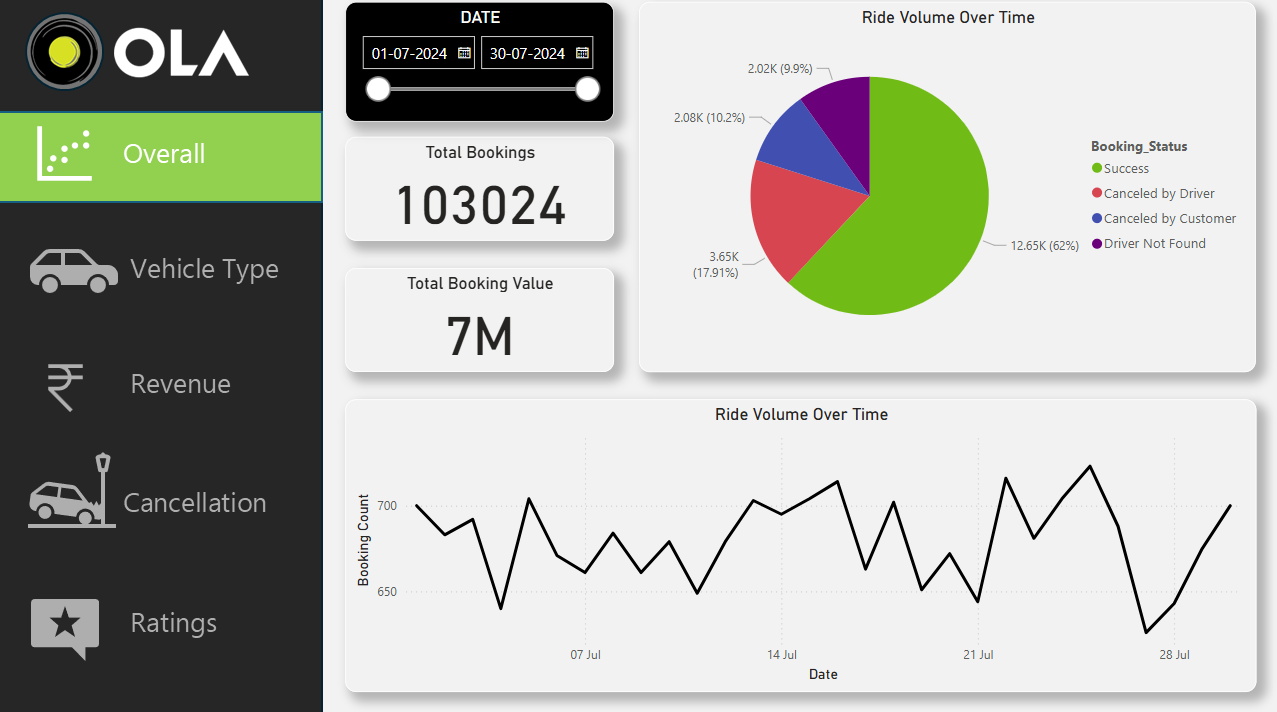

Layout of this report page (visuals, bound fields, positions):
{"tool":"powerbi","page":{"name":"Overall","canvas":[1280,720],"ordinal":0},"visuals":[{"type":"actionButton","box":[0,223.2,326.9,94.1],"z":0},{"type":"actionButton","box":[0,114.6,326.9,89.3],"z":1000},{"type":"actionButton","box":[0,336.6,326.9,95.3],"z":2000},{"type":"actionButton","box":[0,448.8,326.9,96.5],"z":3000},{"type":"actionButton","box":[0,577.9,326.9,92.9],"z":4000},{"type":"lineChart","title":"Ride Volume Over Time","fields":{"Y":["CountNonNull(Booking_ola.Booking_ID)"],"Category":["Booking_ola.Date"]},"box":[345.7,401.4,911.4,292.9],"z":5000},{"type":"pieChart","title":"Ride Volume Over Time","fields":{"Category":["Booking_ola.Booking_Status"],"Y":["CountNonNull(Booking_ola.Booking_Status)"]},"box":[640,4.3,617.1,370],"z":6000},{"type":"slicer","title":"DATE","fields":{"Values":["Booking_ola.Date"]},"box":[345.7,4.3,268.6,120],"z":7000},{"type":"card","title":"Total Bookings","fields":{"Values":["CountNonNull(Booking_ola.Booking_ID)"]},"box":[345.7,138.6,268.6,104.3],"z":8000},{"type":"card","title":"Total Booking Value","fields":{"Values":["Sum(Booking_ola.Booking_Value)"]},"box":[345.7,270,268.6,104.3],"z":9000}]}

Visuals, with their boxes in screenshot pixels (x1, y1, x2, y2), scaled from the page's 1280x720 canvas onto the 1277x712 screenshot:
actionButton: [0, 221, 326, 314]
actionButton: [0, 113, 326, 202]
actionButton: [0, 333, 326, 427]
actionButton: [0, 444, 326, 539]
actionButton: [0, 571, 326, 663]
"Ride Volume Over Time" lineChart: [345, 397, 1254, 687]
"Ride Volume Over Time" pieChart: [638, 4, 1254, 370]
"DATE" slicer: [345, 4, 613, 123]
"Total Bookings" card: [345, 137, 613, 240]
"Total Booking Value" card: [345, 267, 613, 370]
